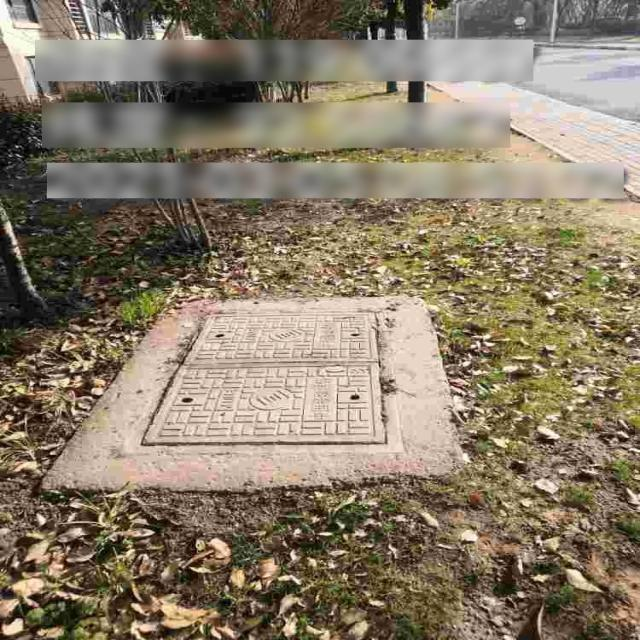Good: (140, 299, 417, 461)
